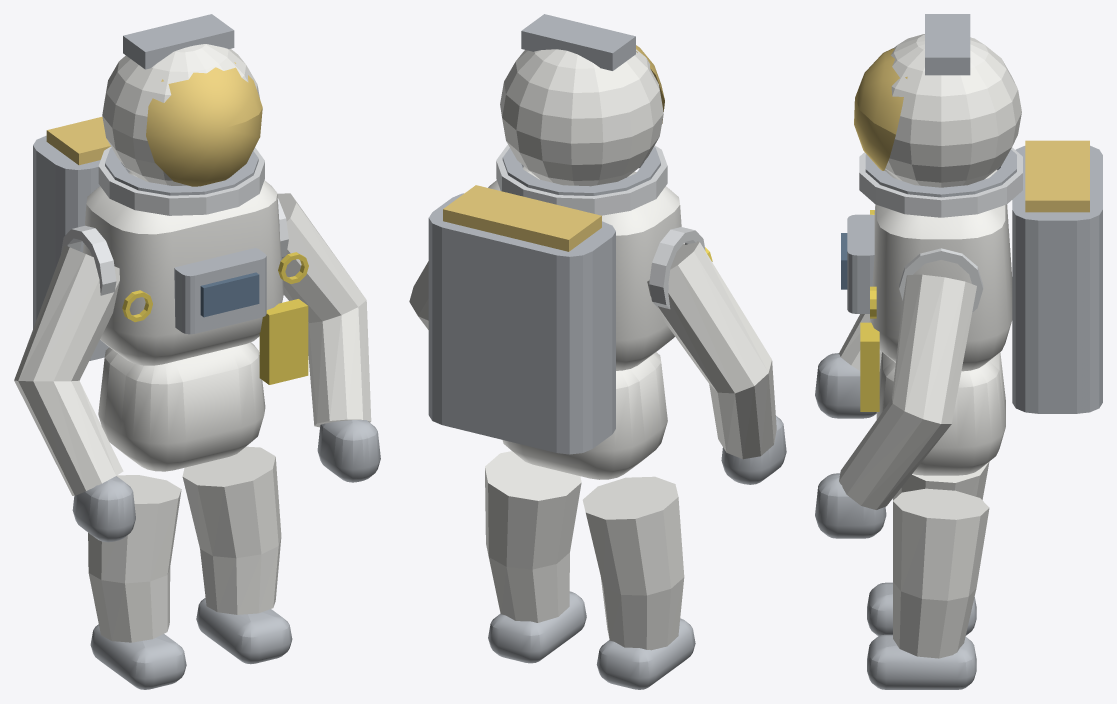
Rendered from orbital-station-and-docking-bays-eva-suit-0a08f37c__24569.glb.
3 views of the same model, side by side, from view 1: azimuth 30°, elevation 25°; view 2: azimuth 150°, elevation 25°; view 3: azimuth 270°, elevation 25° (orthographic). The views are drawn at different scales.
Parts seen in each view (by area): view 1: eva-suit; view 2: eva-suit; view 3: eva-suit.
Boxes of the visible parts, left/top/right/bottom form: eva-suit: left=14, top=14, right=380, bottom=689; eva-suit: left=409, top=14, right=786, bottom=689; eva-suit: left=815, top=14, right=1102, bottom=689.
Bounding box in the file's own units: 1.24 × 2.12 × 0.8901.
